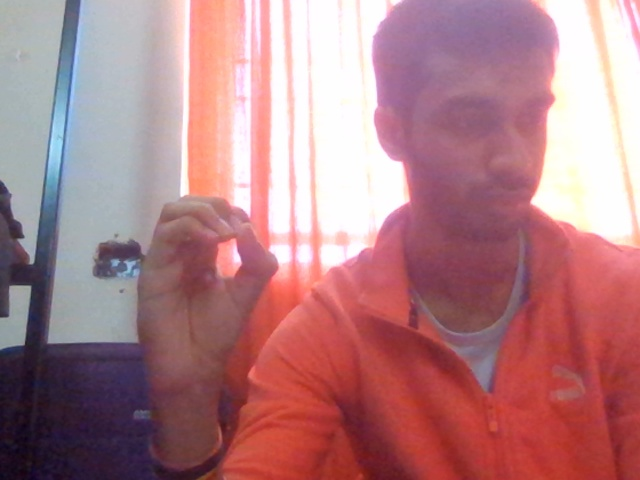O: (128, 181, 316, 441)
